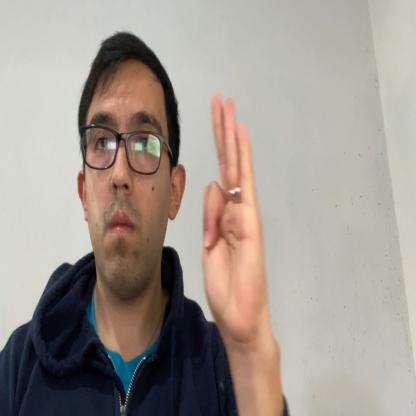F: (202, 91, 264, 342)
